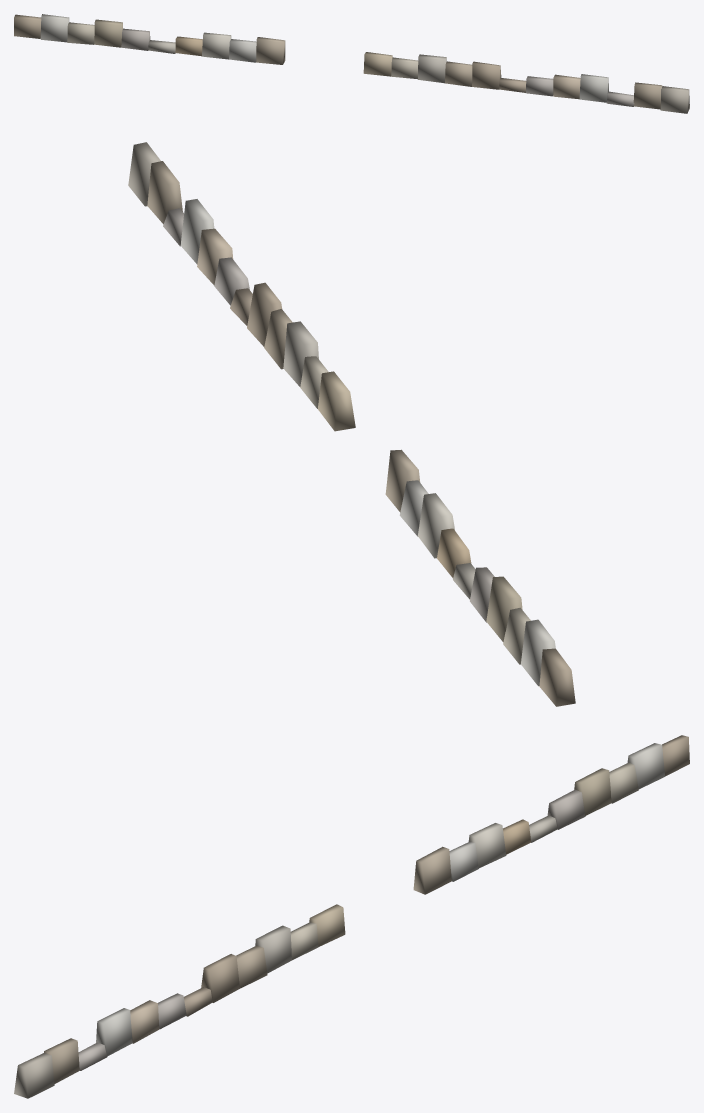
The model's file is farm_-10_7_far.glb.
3 views of the same model, one above another, from view 1: azimuth 30°, elevation 25°; view 2: azimuth 150°, elevation 25°; view 3: azimuth 270°, elevation 25° (orthographic). The views are drawn at different scales.
Visible parts, largest first — view 1: geometry_0; view 2: geometry_0; view 3: geometry_0.
Part boxes in pixels (<box>): geometry_0: <box>14,14,689,113</box>; geometry_0: <box>128,142,575,706</box>; geometry_0: <box>14,735,689,1098</box>.
Size of the model in its own units: 29.8 by 2.38 by 26.94.
